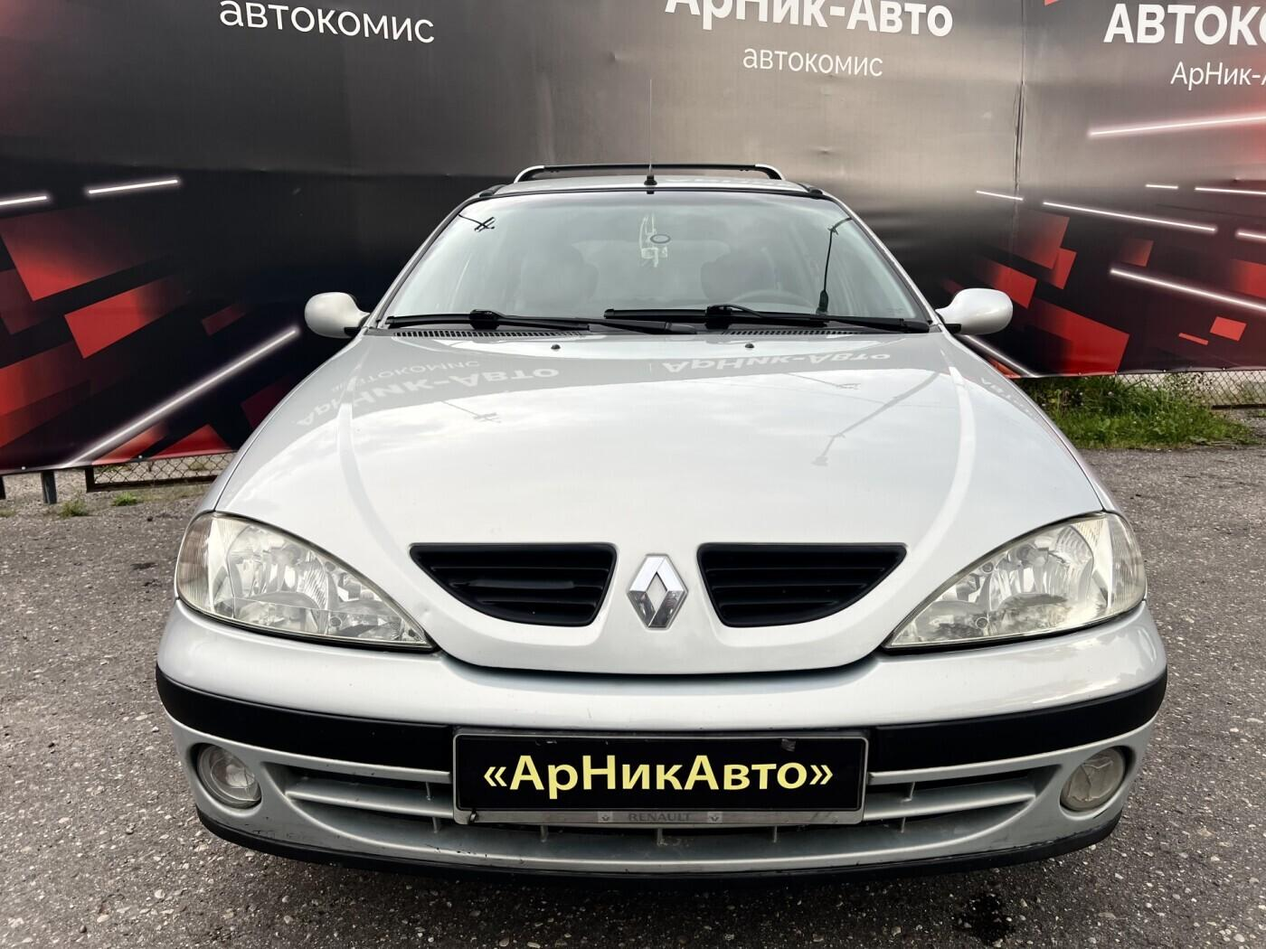Megane_1999-2003: (146, 160, 1179, 888)
